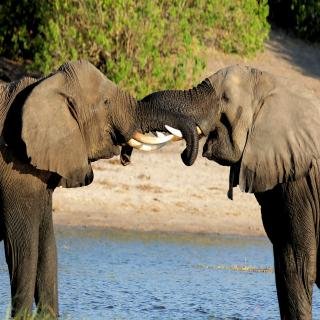Elephant: (0, 57, 176, 320), (154, 62, 320, 320)
